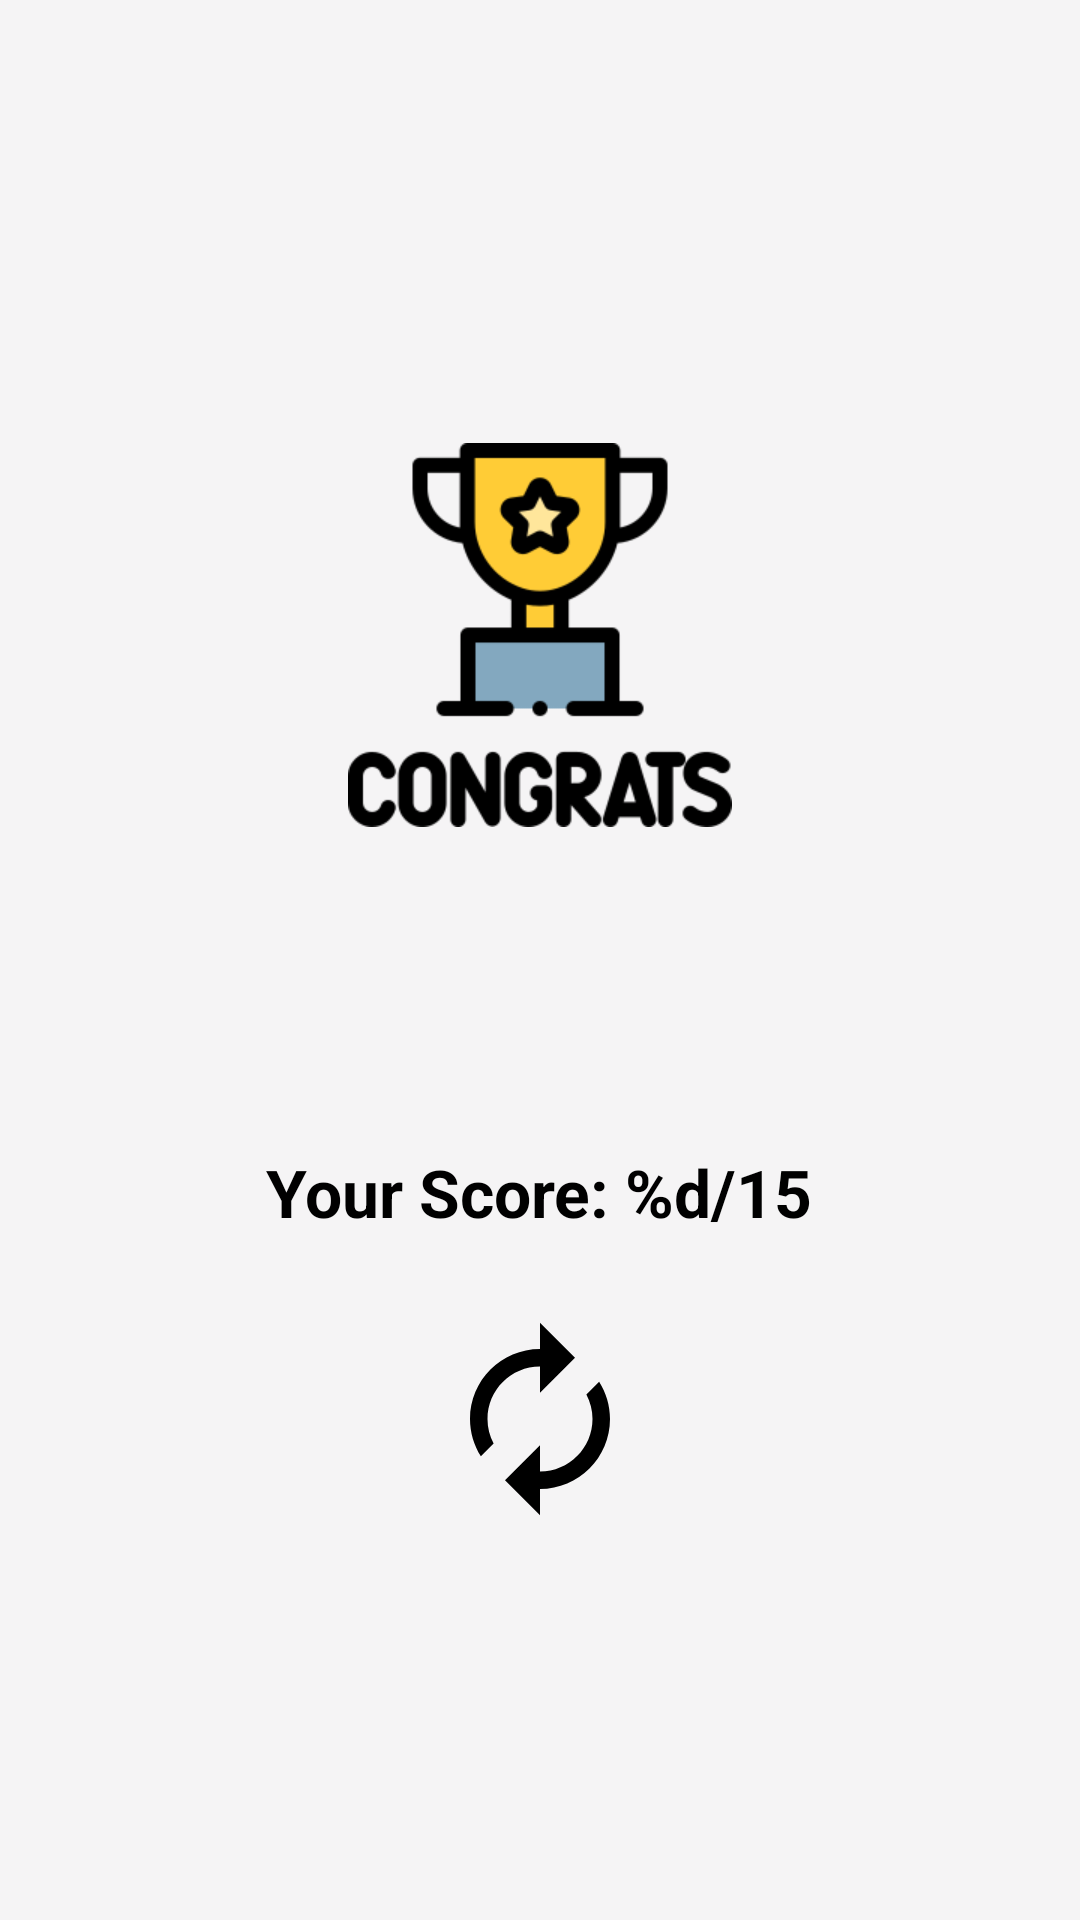

Named icons in this screenshot (1080w x 1920h) and their centers, [x,y]:
autorenew: [540,1419]
